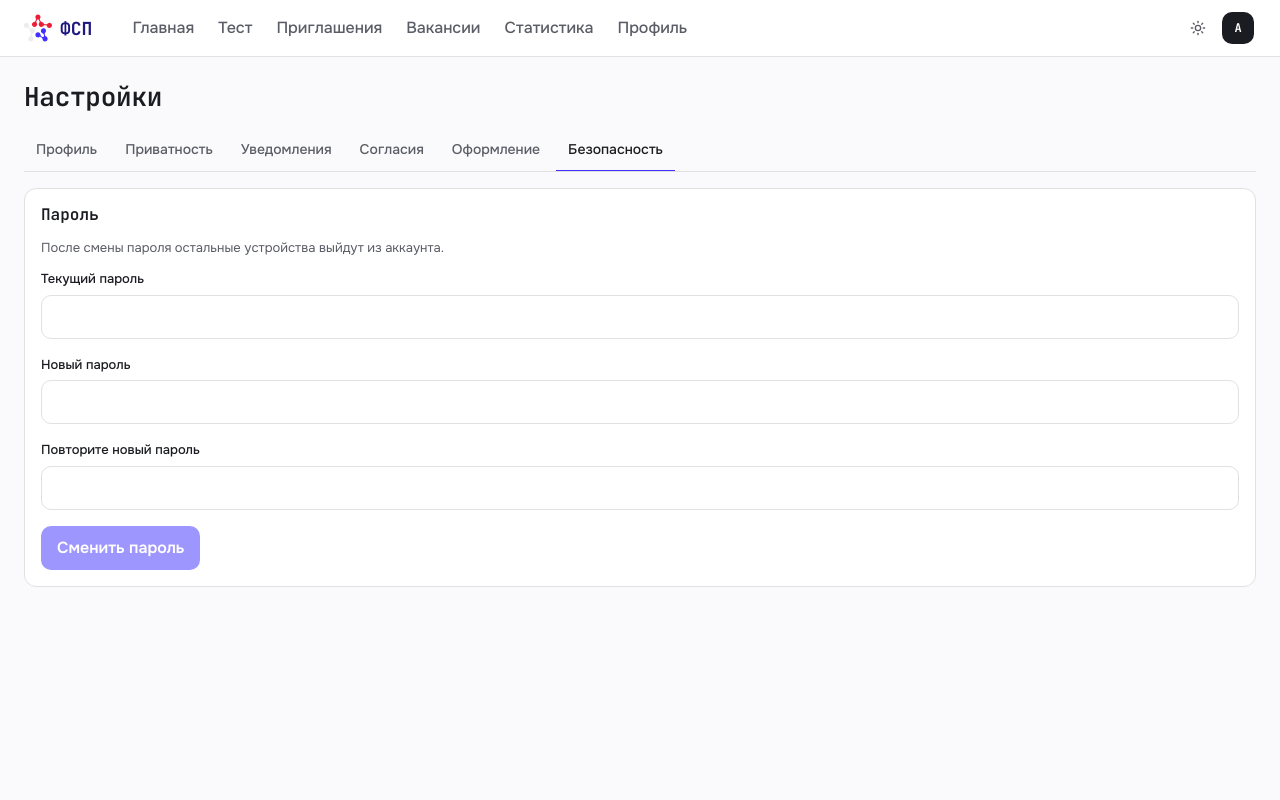
безопасность: проверка полей и смена пароля
Expected: the button with test id "settings-password-submit" is disabled, [41,526,200,570]
Step 1. Type "old-password" into the password field with test id "settings-password-current" → (640, 317), box [41,295,1239,339]
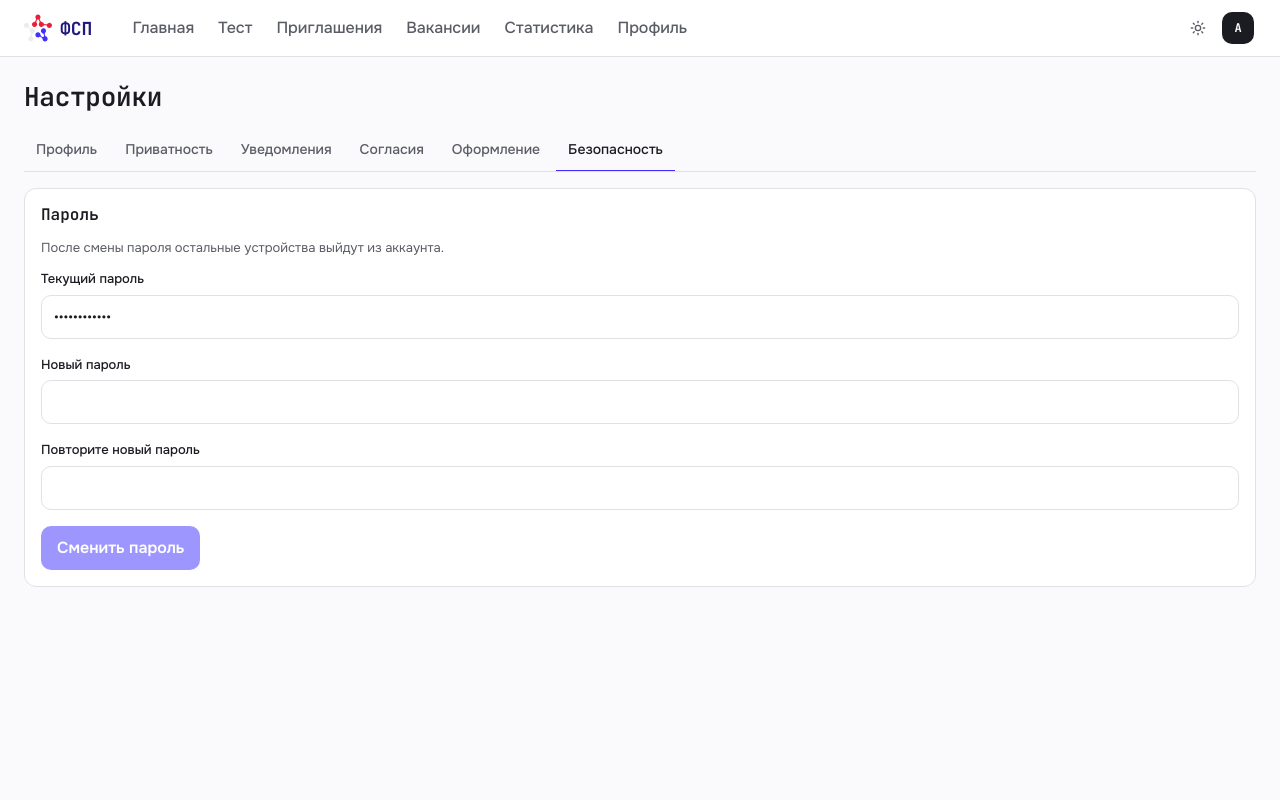
Step 2. Type "new-password-1" into the password field with test id "settings-password-new" → (640, 402), box [41,380,1239,424]
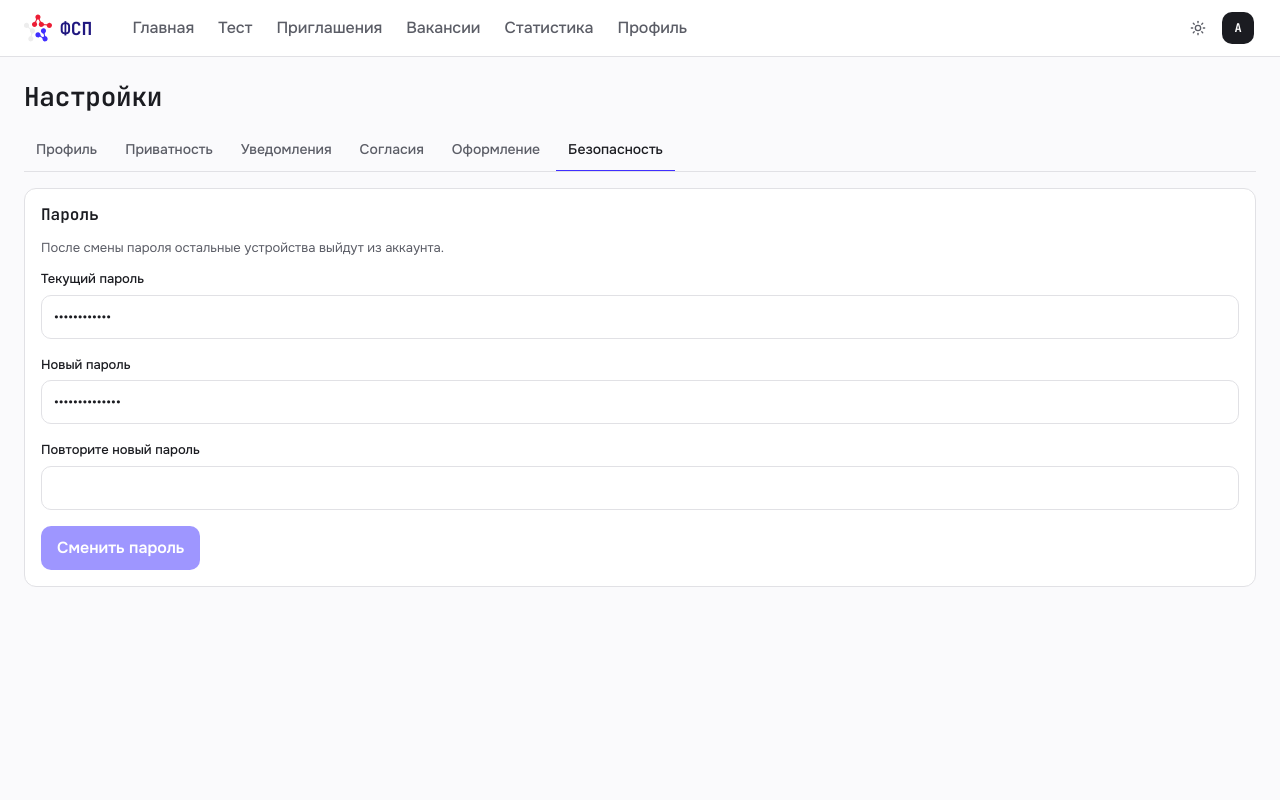
Step 3. Type "different" into the password field with test id "settings-password-repeat" → (640, 488), box [41,466,1239,510]
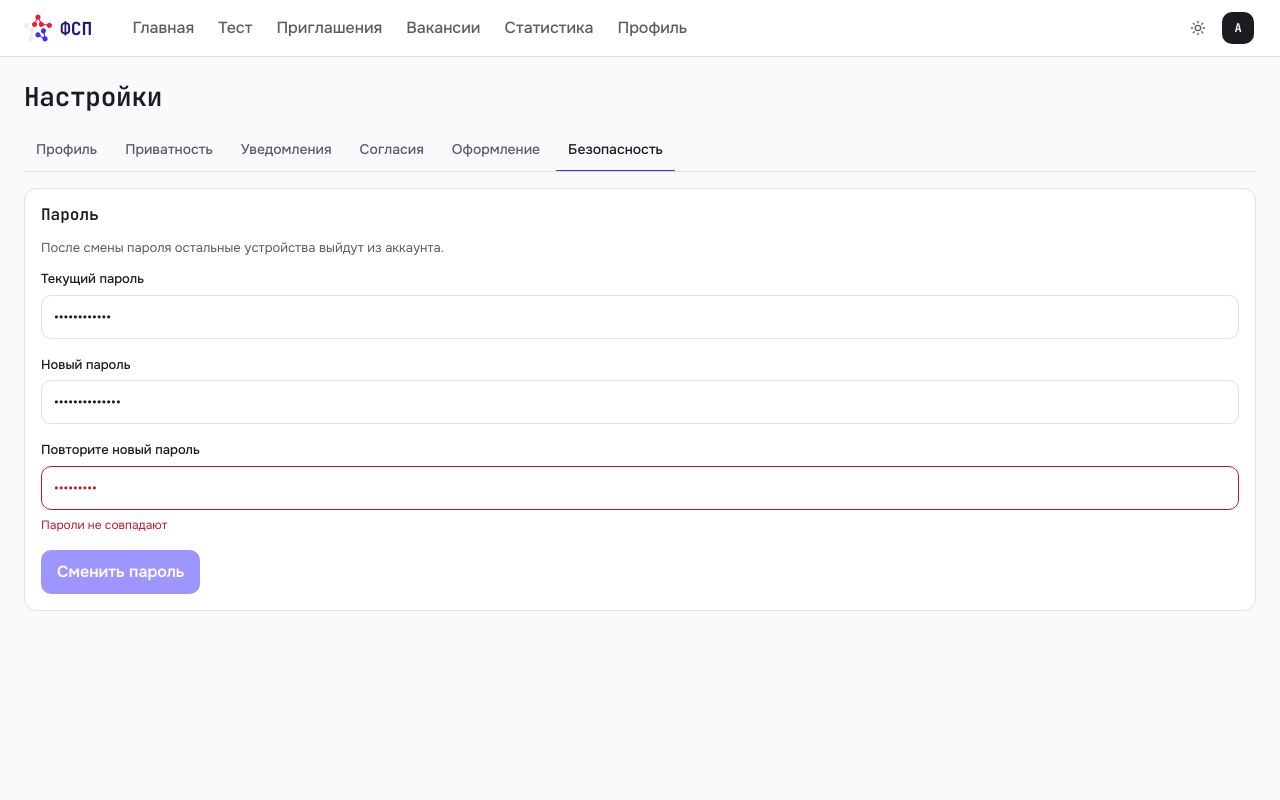
Expected: the button with test id "settings-password-submit" is disabled, [41,550,200,594]
Expected: the text "Пароли не совпадают" is shown, [41,517,167,533]
Step 4. Type "new-password-1" into the password field with test id "settings-password-repeat" → (640, 488), box [41,466,1239,510]
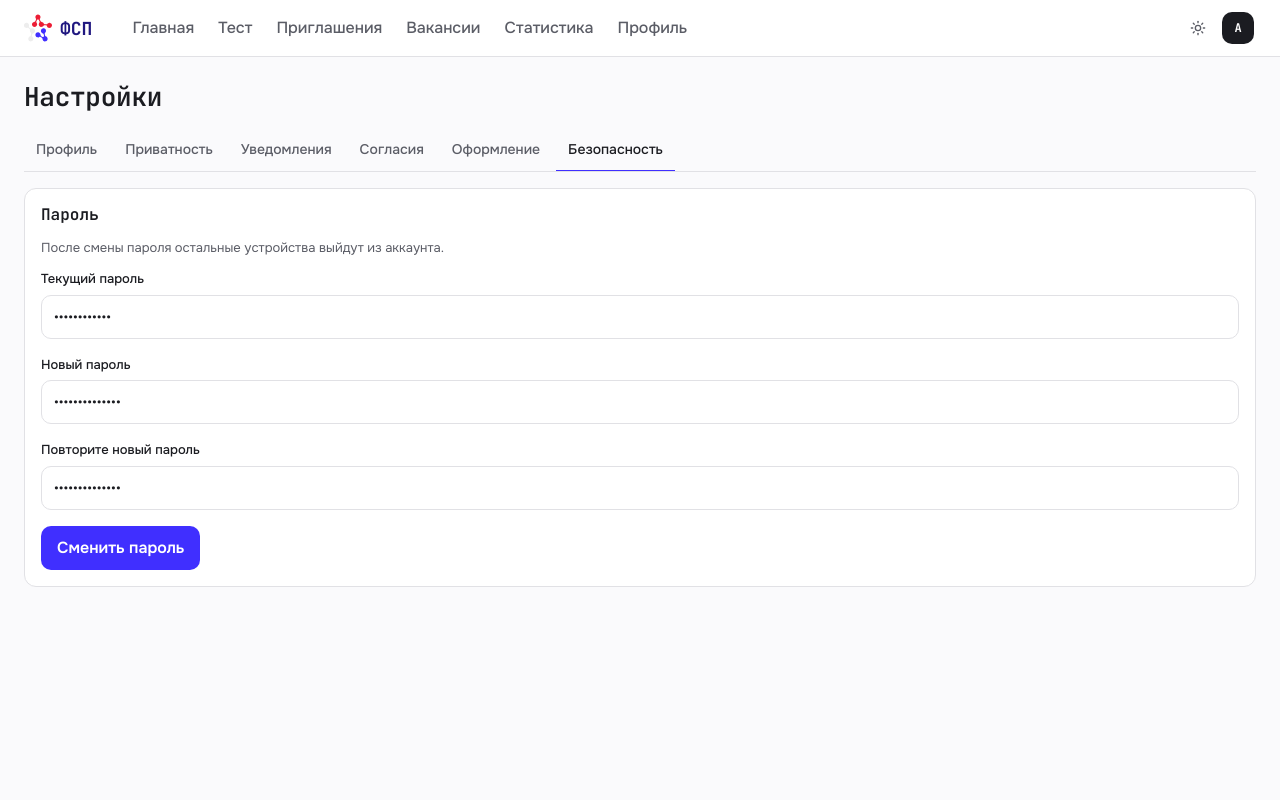
Expected: the button with test id "settings-password-submit" is enabled
Step 5. Click the button with test id "settings-password-submit" → (121, 548), box [41,526,200,570]
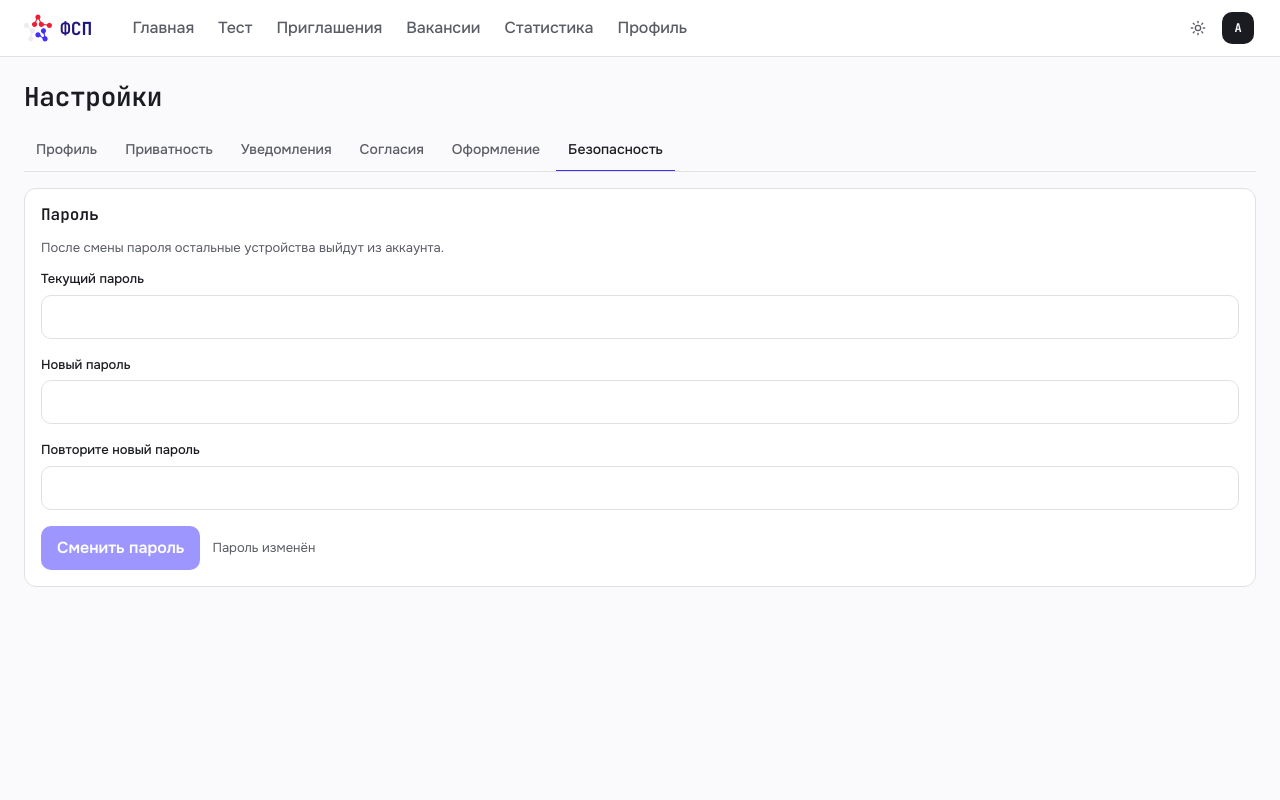
Expected: the message with test id "settings-password-message" reads "Пароль изменён", [212,539,315,556]
Expected: the password field with test id "settings-password-current" is empty, [41,295,1239,339]
